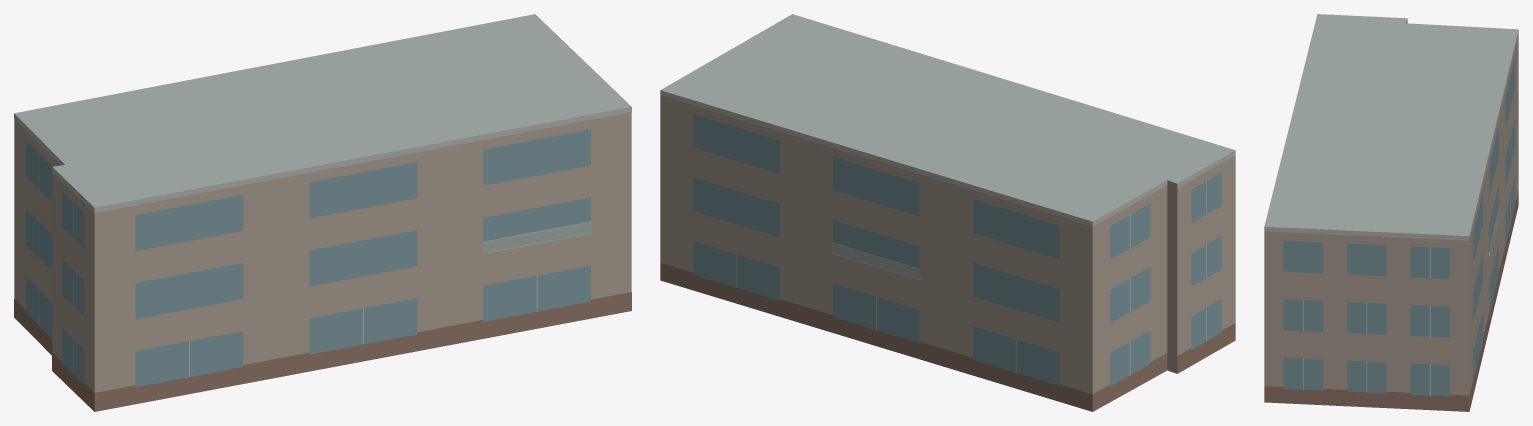
The model's file is survey-upis-32561239.glb.
The picture shows the model from 3 angles, left to right: view 1: azimuth 30°, elevation 25°; view 2: azimuth 150°, elevation 25°; view 3: azimuth 270°, elevation 25°; orthographic projection. The views are drawn at different scales.
Visible parts, largest first — view 1: survey-upis-32561239.tmp; view 2: survey-upis-32561239.tmp; view 3: survey-upis-32561239.tmp.
Boxes of the visible parts, box(x1,y1,x2,y2) form: survey-upis-32561239.tmp: box(14, 14, 631, 411); survey-upis-32561239.tmp: box(660, 14, 1235, 411); survey-upis-32561239.tmp: box(1264, 14, 1518, 411).
Bounding box in the file's own units: 24.82 × 9.15 × 12.01.
